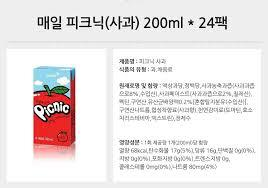picnic_apple: (33, 66, 79, 146)
